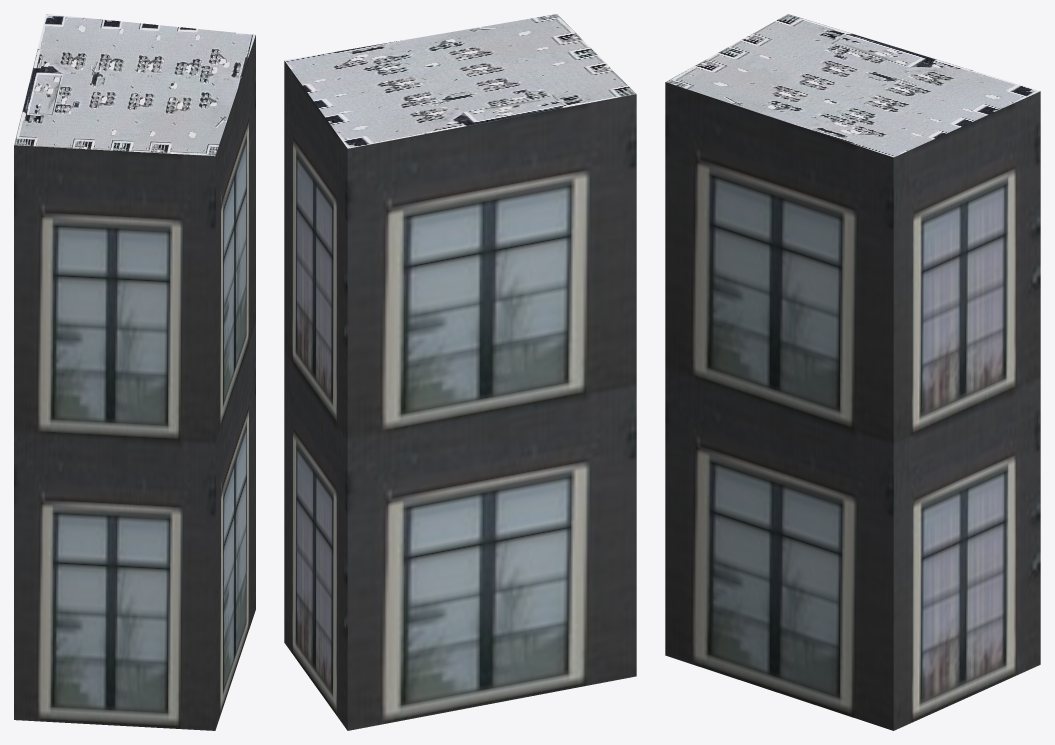
File: ResTex__290.fbx
3 renders of one model, left to right at view 1: azimuth 30°, elevation 25°; view 2: azimuth 150°, elevation 25°; view 3: azimuth 270°, elevation 25°, orthographic.
Parts seen in each view (by area): view 1: CityEngineMaterial_22_m, CityEngineMaterial_4_m; view 2: CityEngineMaterial_22_m, CityEngineMaterial_4_m; view 3: CityEngineMaterial_22_m, CityEngineMaterial_4_m.
Part boxes in pixels (x1,y1,x2,y2): CityEngineMaterial_22_m: (14, 35, 255, 730); CityEngineMaterial_4_m: (14, 14, 255, 156); CityEngineMaterial_22_m: (284, 61, 636, 730); CityEngineMaterial_4_m: (284, 14, 636, 148); CityEngineMaterial_22_m: (665, 82, 1040, 730); CityEngineMaterial_4_m: (666, 14, 1039, 157).
Size of the model in its own units: 3.22 by 6 by 3.56.
Materials: 2 (2 with a texture image).
